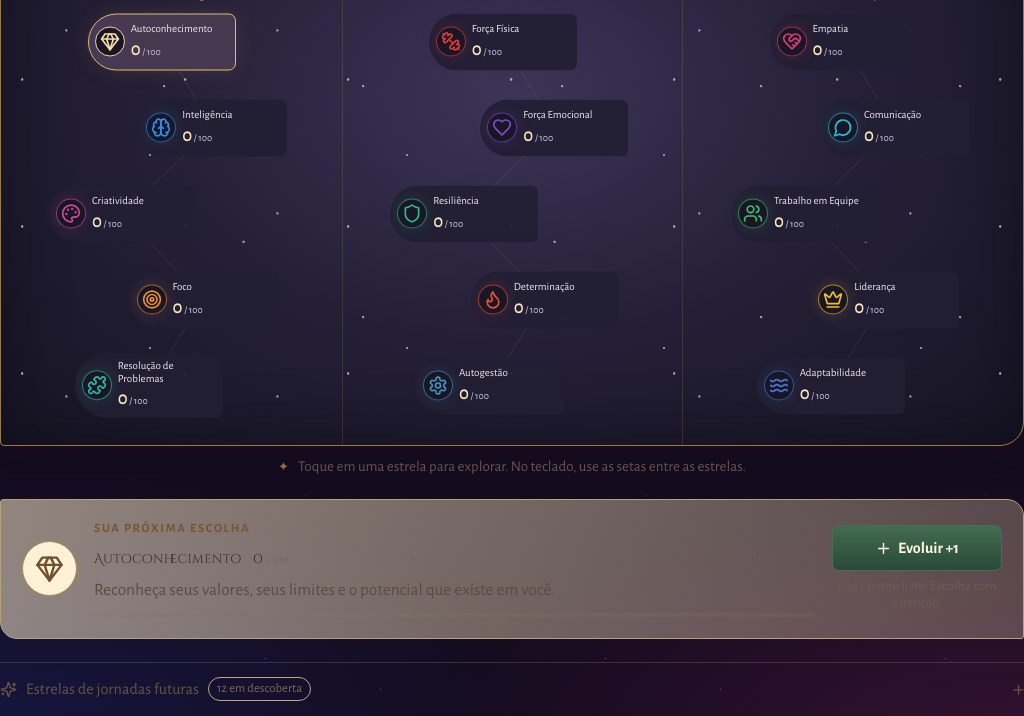
Scenario: Constelações do livro do herói › separa os doze atributos futuros em consulta, sem botões de evolução
This screenshot has width=1024, height=716.
(page scrolled)
Click the text "Estrelas de jornadas futuras" at (112, 689), box top-left (26, 679), bottom-right (199, 700)
(page scrolled)
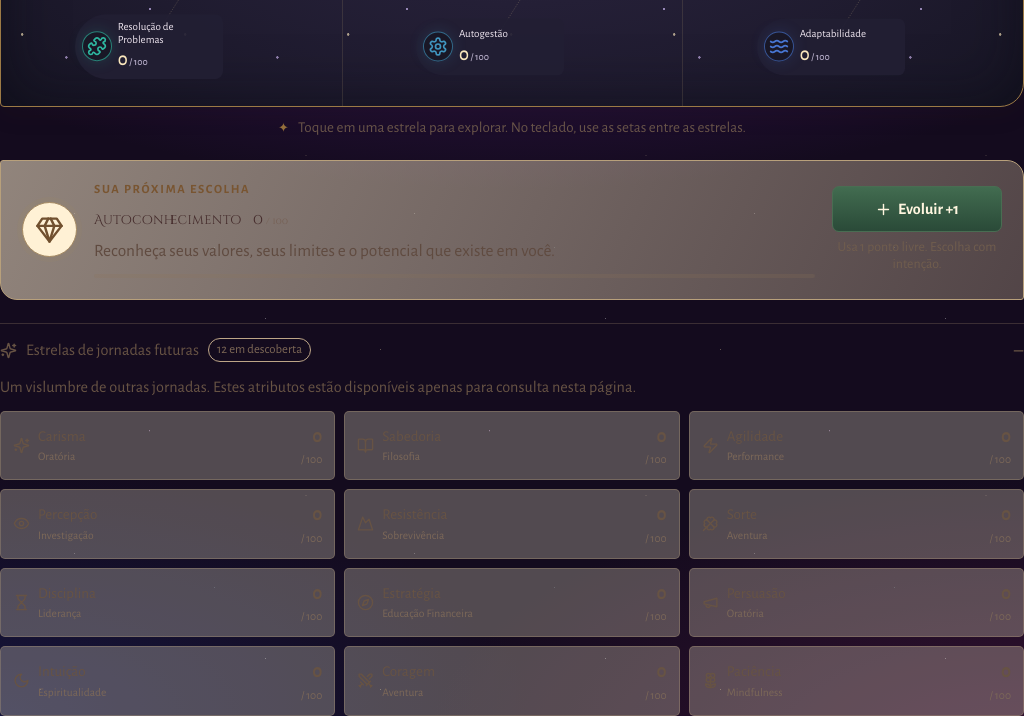
Result: the text "apenas para consulta" is shown at top-left (0, 379), bottom-right (636, 395)
